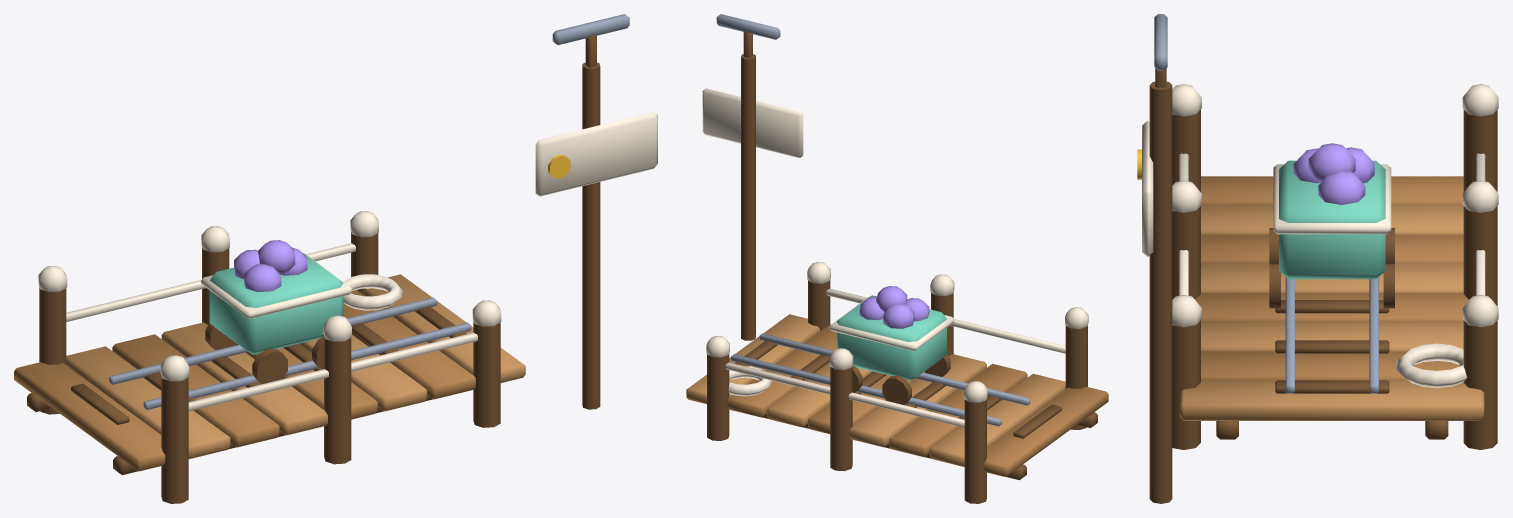
File: dock.glb
3 views of the same model, side by side, from view 1: azimuth 30°, elevation 25°; view 2: azimuth 150°, elevation 25°; view 3: azimuth 270°, elevation 25° (orthographic). The views are drawn at different scales.
Parts seen in each view (by area): view 1: dock; view 2: dock; view 3: dock.
Part boxes in pixels (x1,y1,x2,y2): dock: (14,14,657,503); dock: (686,14,1108,503); dock: (1137,14,1498,503).
Size of the model in its own units: 3.75 by 2.7 by 1.9.
